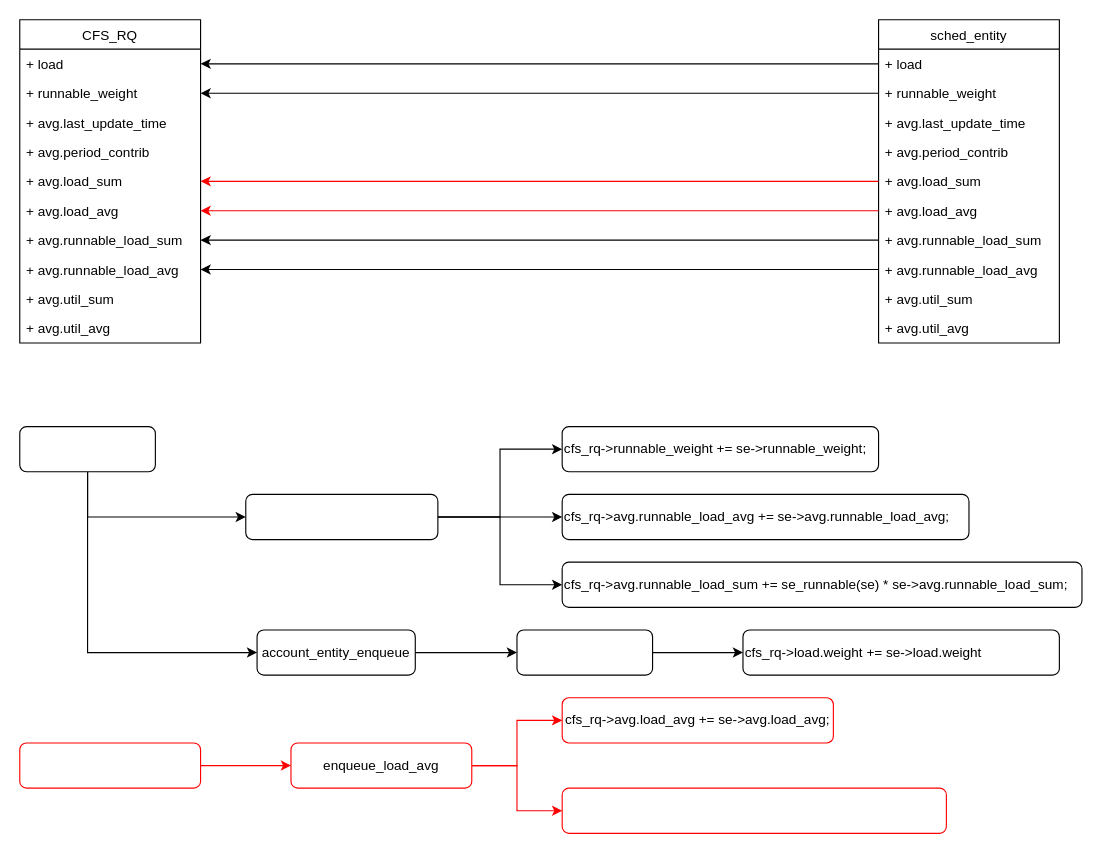
This 1102x853 diagram has some shape labels left out. Here are the shapes that lost their labels. From the top down, the centre of each, then its label:
the point at 87,448: enqueue_entity
the point at 341,516: enqueue_runnable_load_avg
the point at 584,652: update_load_add
the point at 110,765: attach_entity_load_avg
the point at 753,810: cfs_rq->avg.load_sum += se_weight(se) * se->avg.load_sum;
